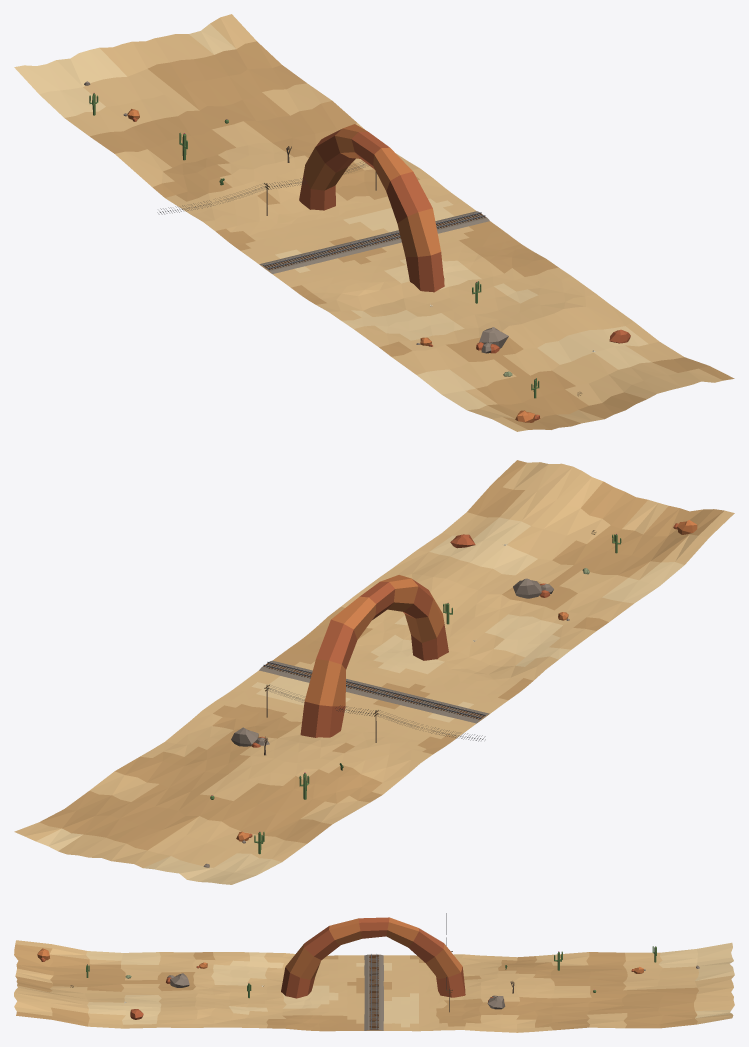
File: SM_FG_Chunk_Landmark_Arch_A.fbx
The picture shows the model from 3 angles, top to bottom: view 1: azimuth 30°, elevation 25°; view 2: azimuth 150°, elevation 25°; view 3: azimuth 270°, elevation 25°; orthographic projection. The views are drawn at different scales.
Parts seen in each view (by area): view 1: FG_Chunk_Landmark_Arch_A_Track; view 2: FG_Chunk_Landmark_Arch_A_Track; view 3: FG_Chunk_Landmark_Arch_A_Track.
Boxes of the visible parts, bbox=[...] form: FG_Chunk_Landmark_Arch_A_Track: bbox=[14, 14, 734, 431]; FG_Chunk_Landmark_Arch_A_Track: bbox=[14, 460, 734, 884]; FG_Chunk_Landmark_Arch_A_Track: bbox=[14, 913, 734, 1032].
Bounding box in the file's own units: 6250 × 2503 × 20131.
